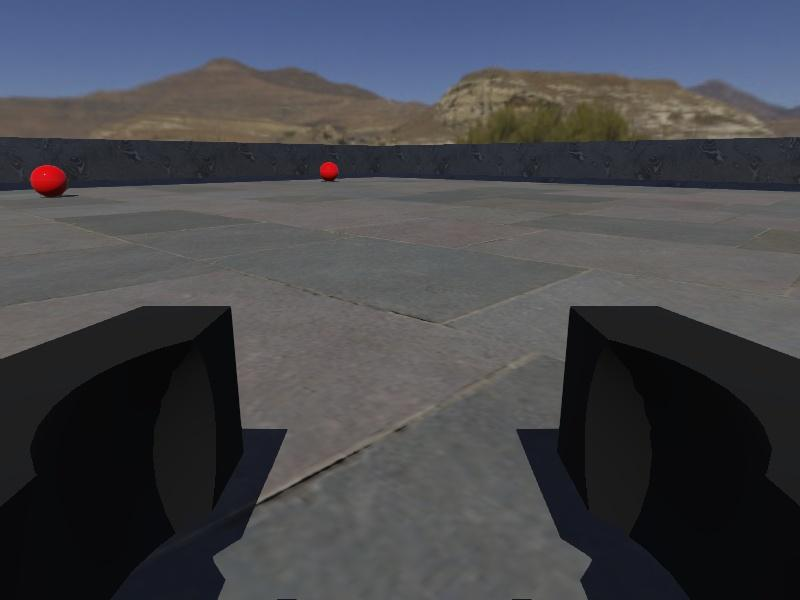red ball: (29, 163, 68, 198), (318, 161, 340, 182)
